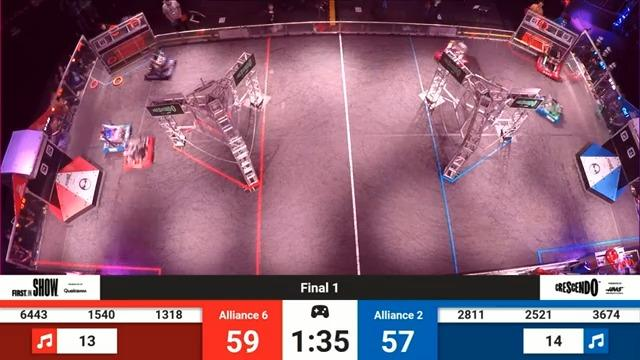robot: (119, 133, 158, 175), (532, 39, 568, 82), (96, 119, 133, 157), (139, 53, 177, 83), (437, 37, 469, 69), (536, 91, 562, 122)
